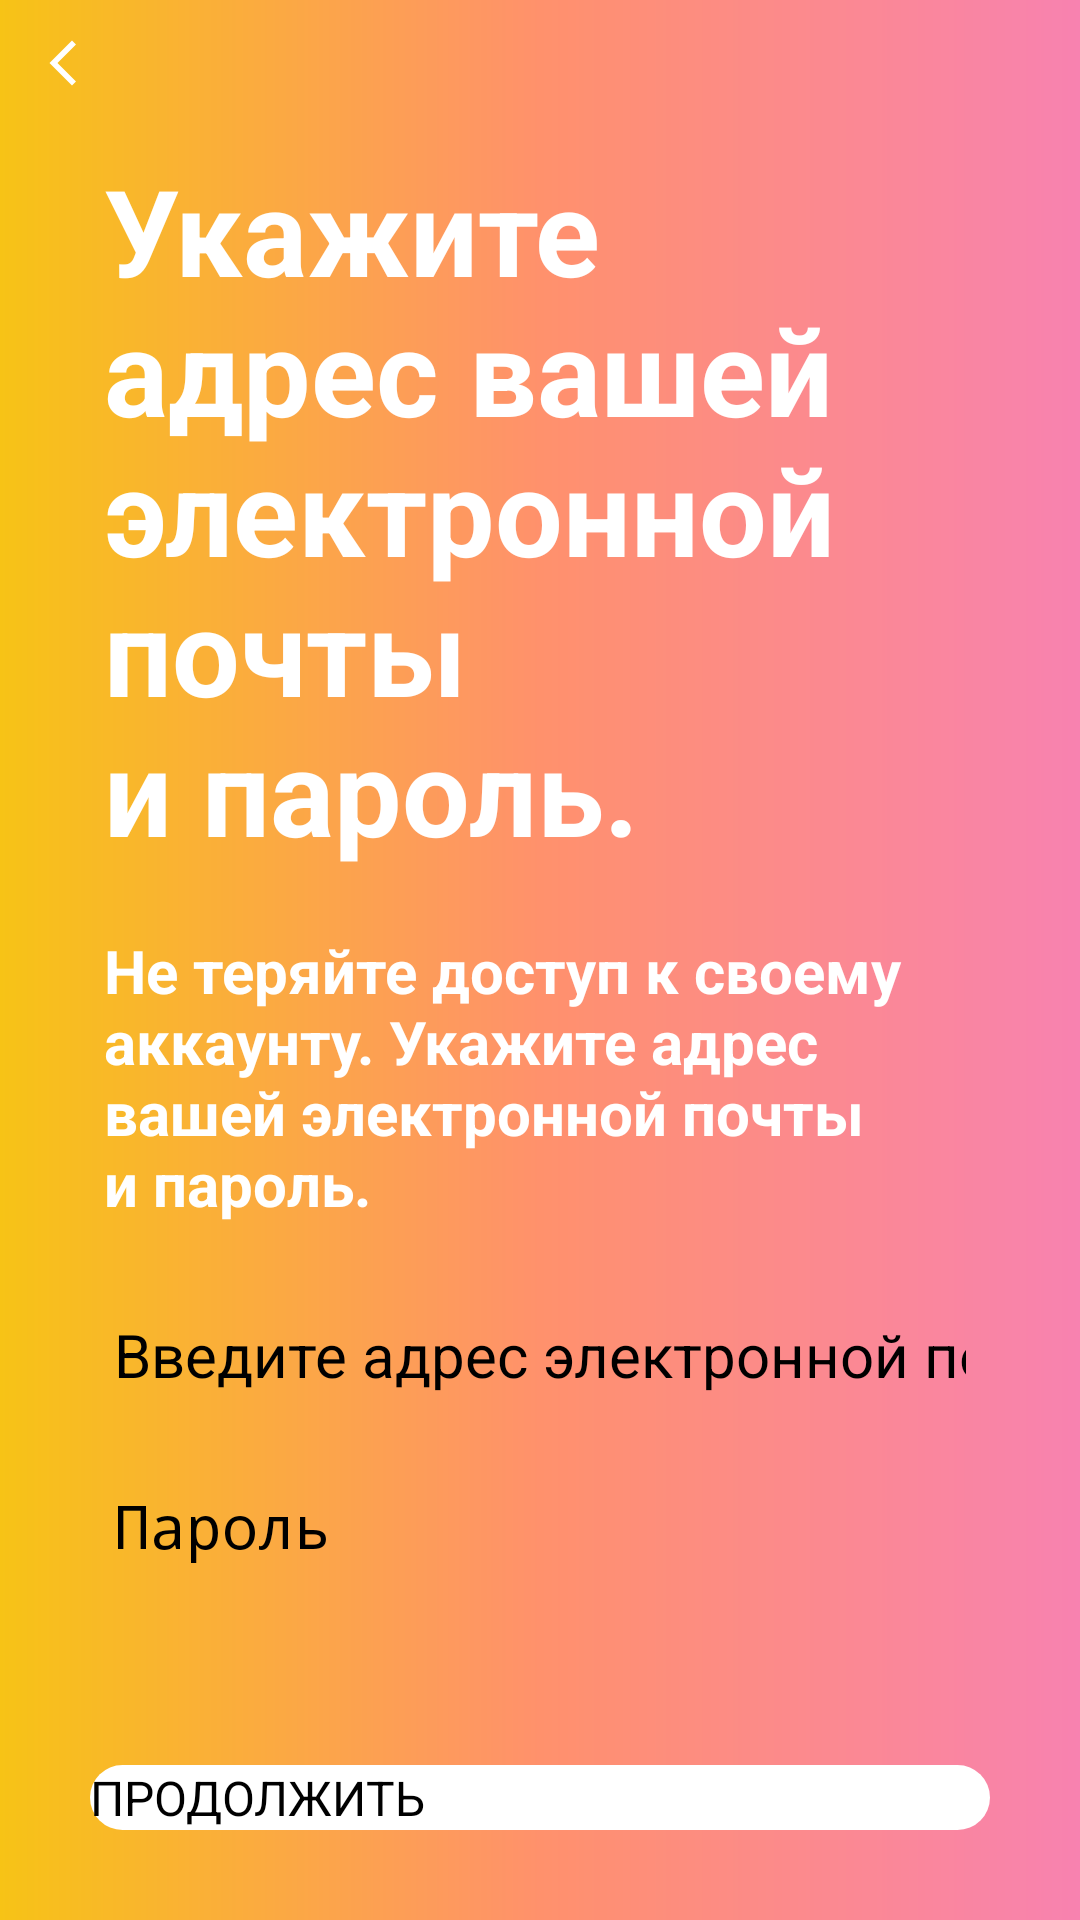

Where to tap for icons on this 1080px×1920px app screen, as (x=x, y=y):
back: (x=63, y=63)
